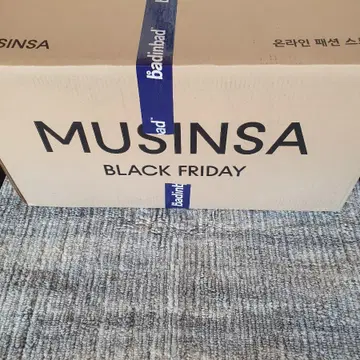undamaged: (0, 0, 358, 211)
